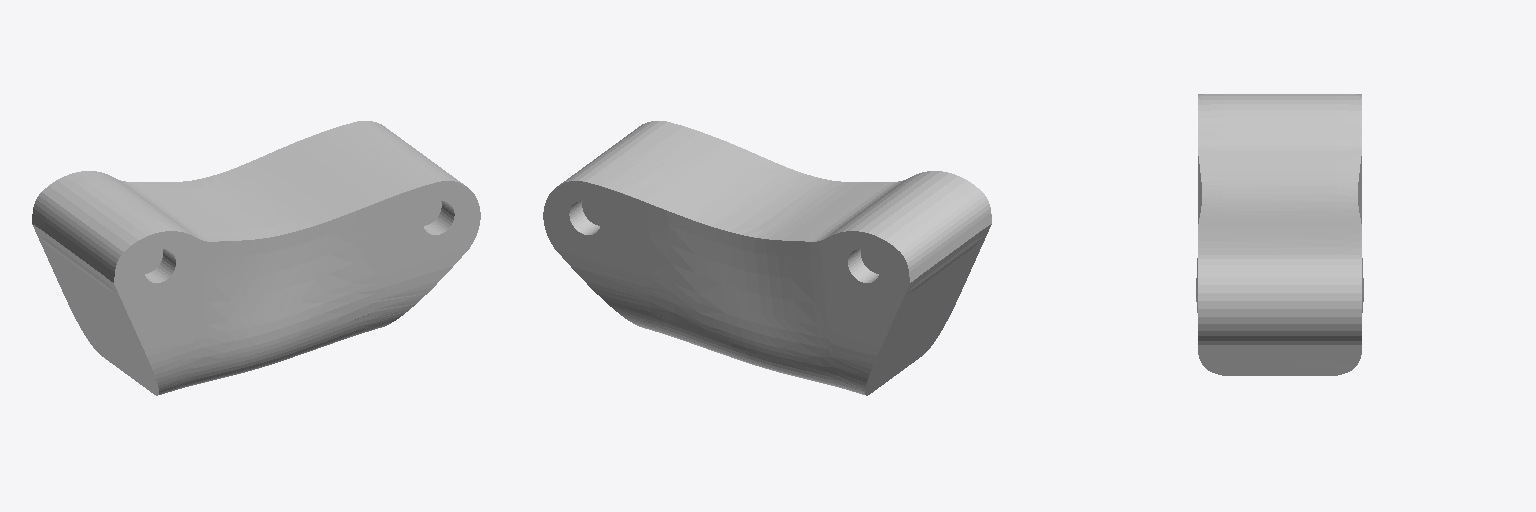
Rendered from finger_proximal.obj.
The picture shows the model from 3 angles: view 1: azimuth 30°, elevation 25°; view 2: azimuth 150°, elevation 25°; view 3: azimuth 270°, elevation 25°; orthographic projection.
Size of the model in its own units: 0.0579 by 0.0265 by 0.0229.